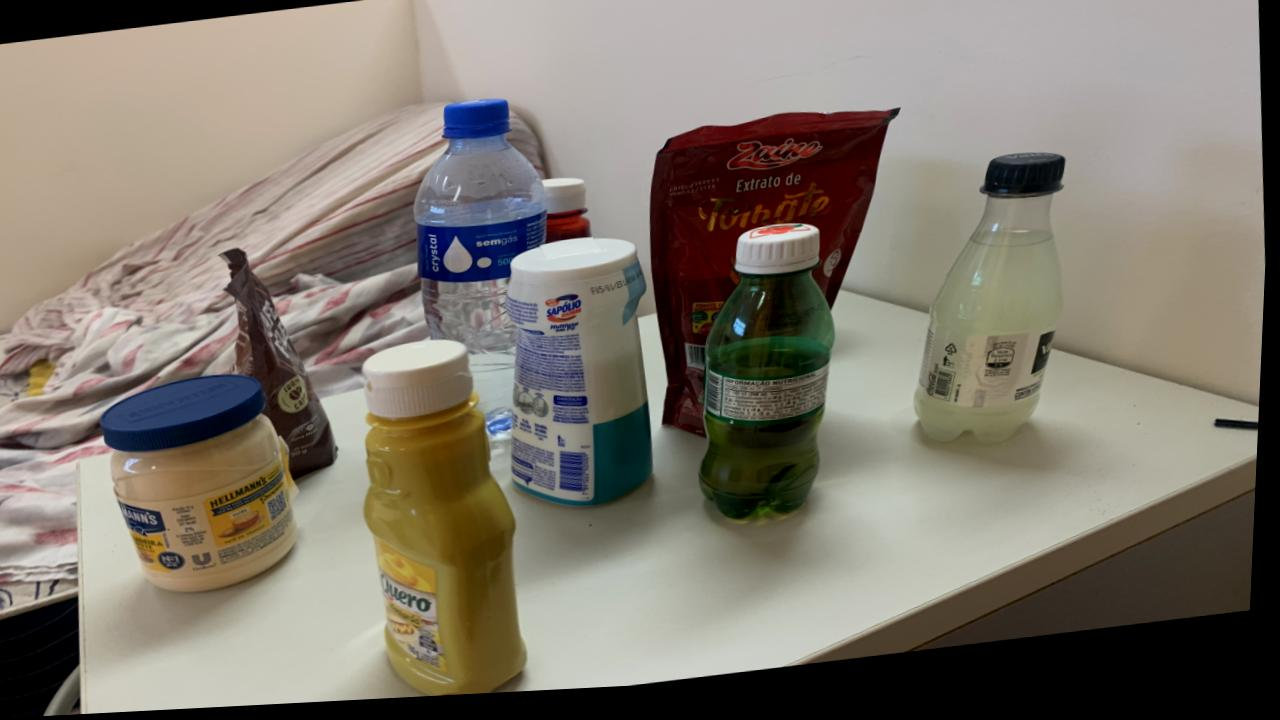Cleaner-Cleanup_Items: (508, 243, 658, 513)
Coffee-Pantry_Items: (223, 251, 341, 481)
Guarana-Drinks: (703, 232, 839, 528)
Ketchup-Pantry_Items: (545, 184, 594, 249)
Mayonnaise-Pantry_Items: (106, 377, 302, 594)
Mustard-Pantry_Items: (368, 343, 534, 701)
Soda-Drinks: (918, 163, 1066, 454), (918, 397, 1044, 455)
Tomato_Sauce-Pantry_Items: (651, 119, 901, 442), (738, 231, 823, 283)
Water_Bottle-Drinks: (415, 105, 549, 445)
